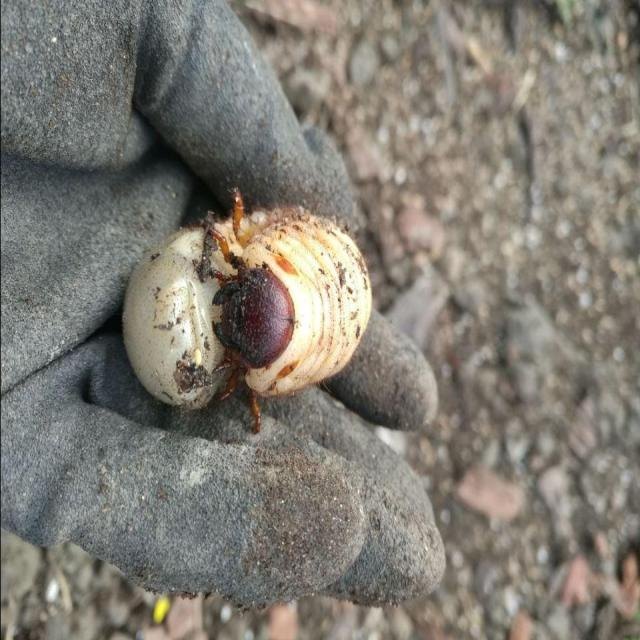grub: (129, 208, 373, 418)
